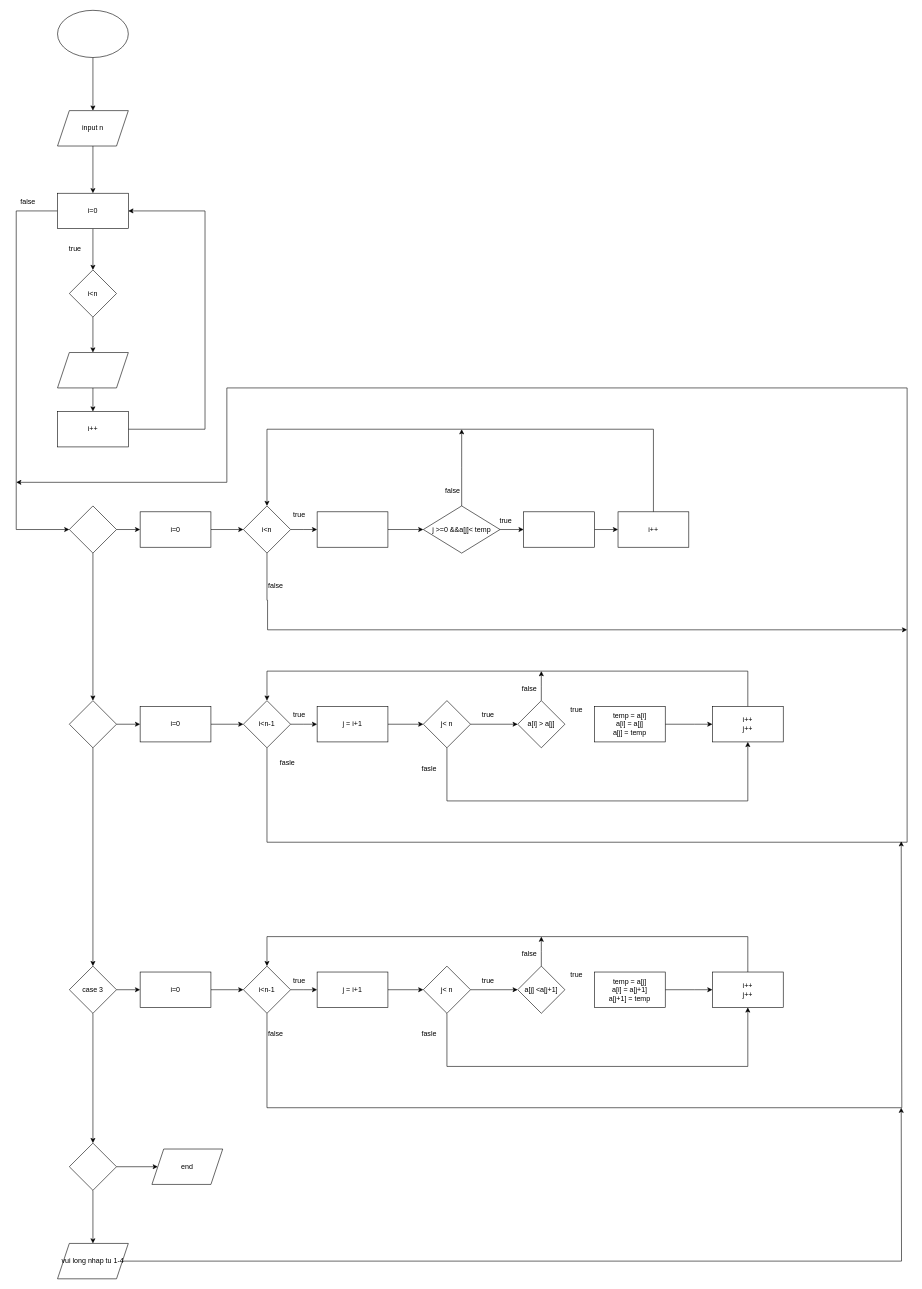
This 922x1289 diagram has some shape labels left out. The shapes that lost their labels are listed below. From the top down, each one's box as (x1, y1, x2, y2) in pixels, then its label:
(57, 10, 128, 58): start
(57, 352, 128, 388): input a[i]
(69, 505, 117, 553): case 1
(317, 511, 388, 547): j = i-1 temp = a[i]
(523, 511, 594, 547): a[j+1] = a[j] j =j-1 a[j+1] = temp
(69, 700, 117, 748): case 2
(69, 1143, 117, 1190): case 4
